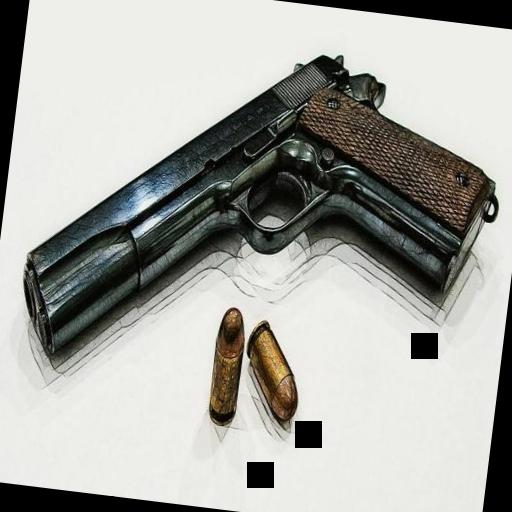Handgun: (10, 22, 506, 414)
